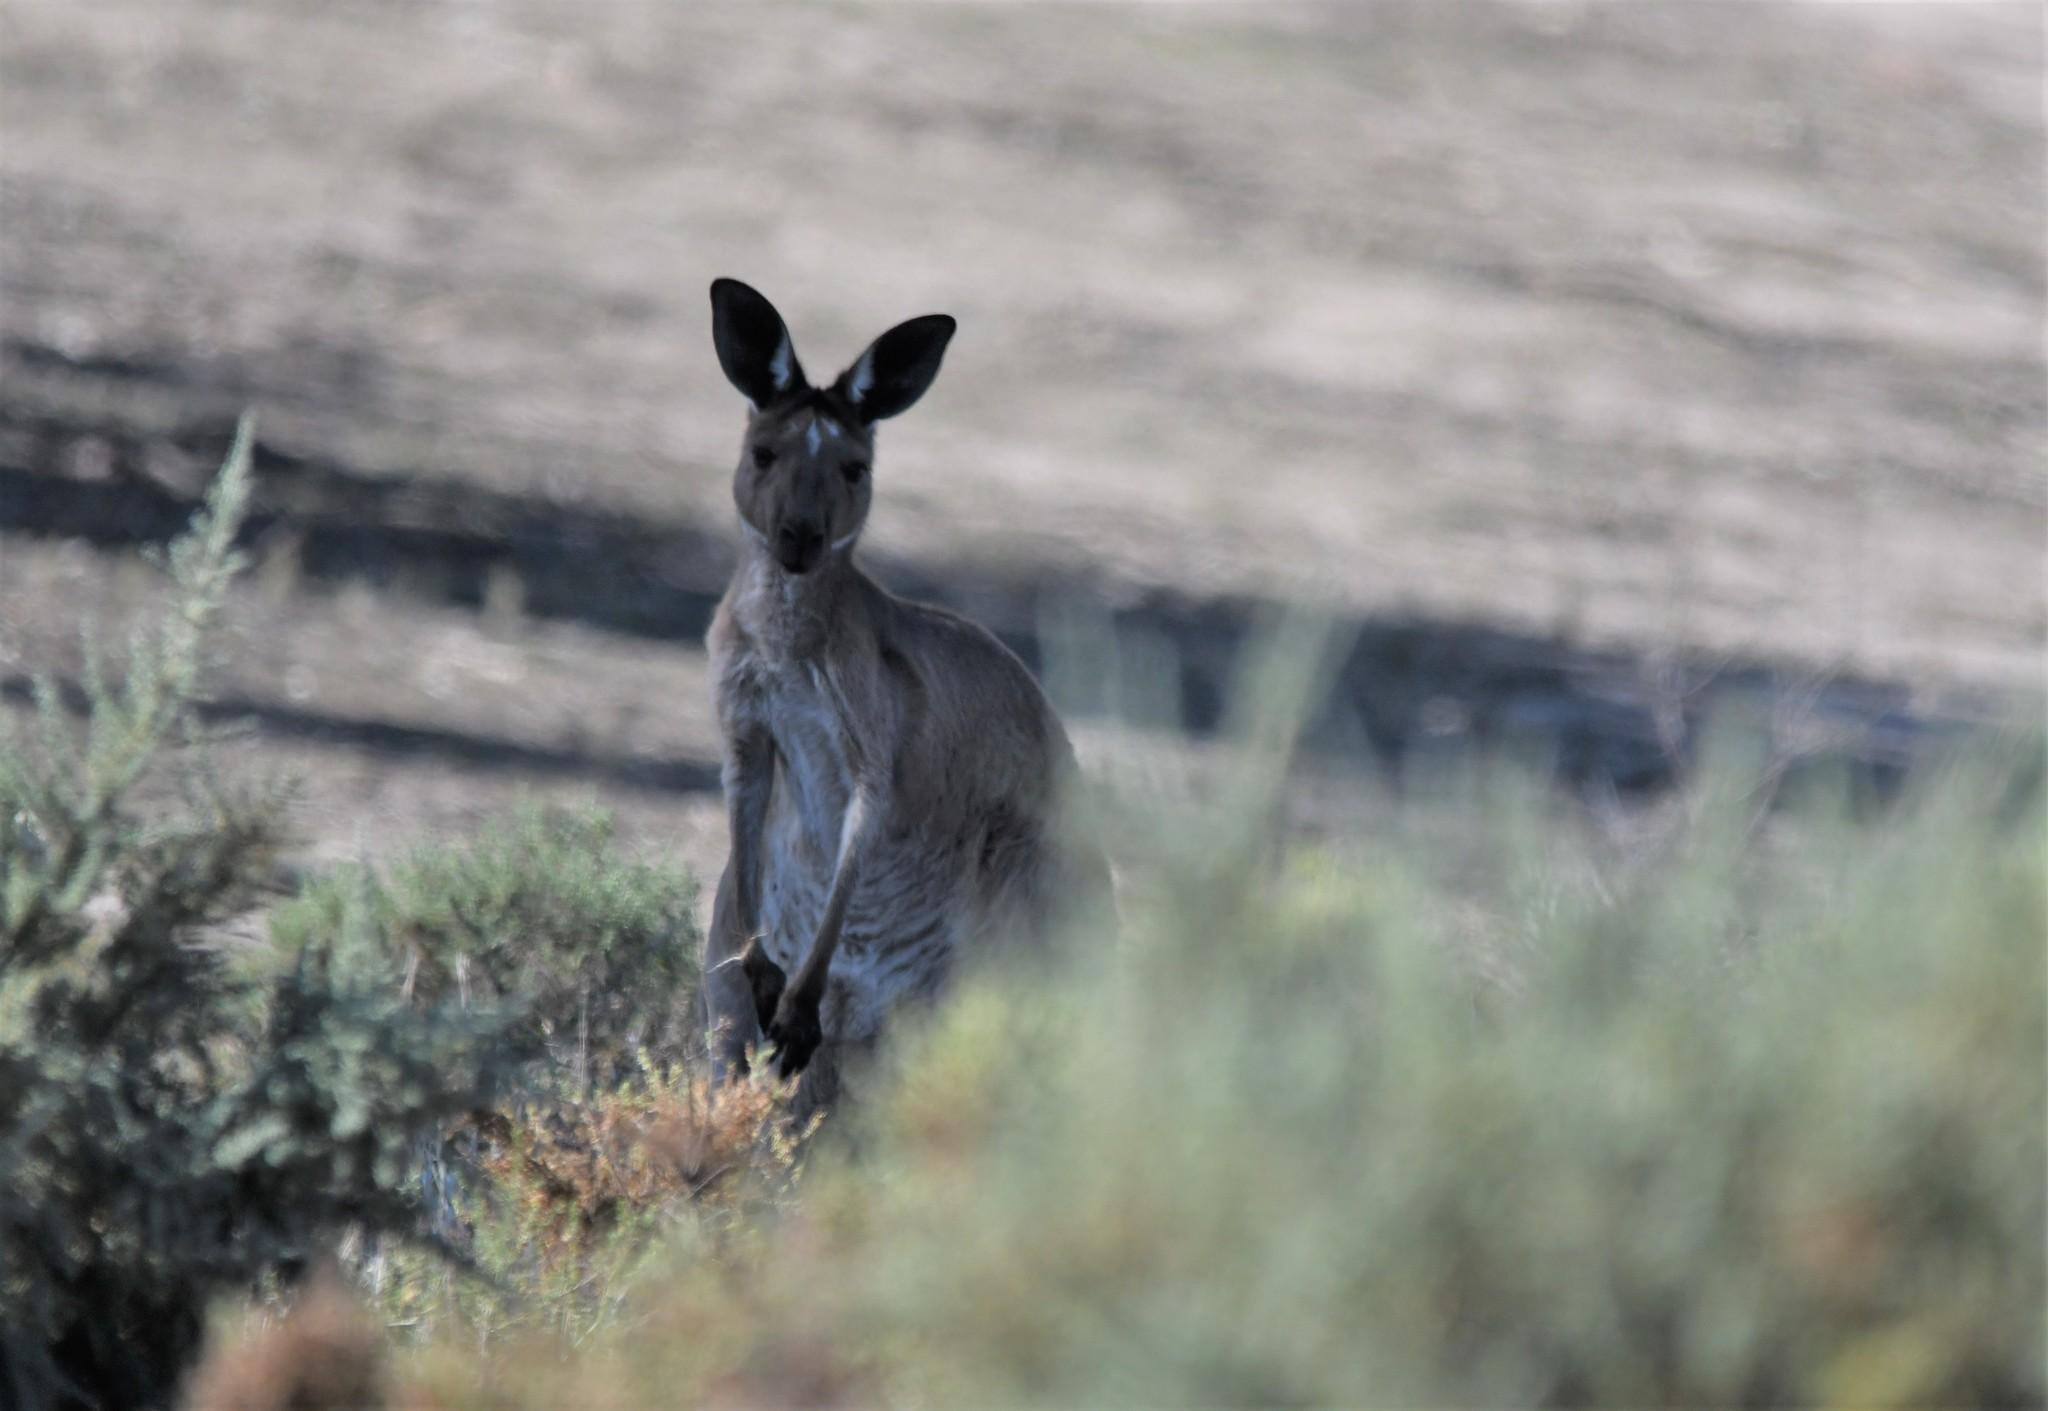Western grey kangaroo: (702, 277, 1120, 1148)
